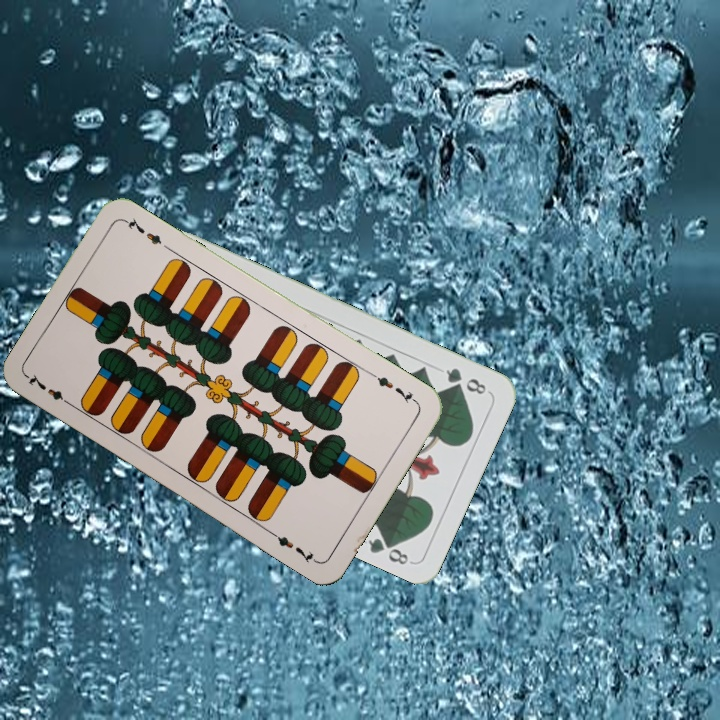E7: (24, 370, 76, 410), (367, 368, 420, 407)
G8: (441, 364, 489, 397)
